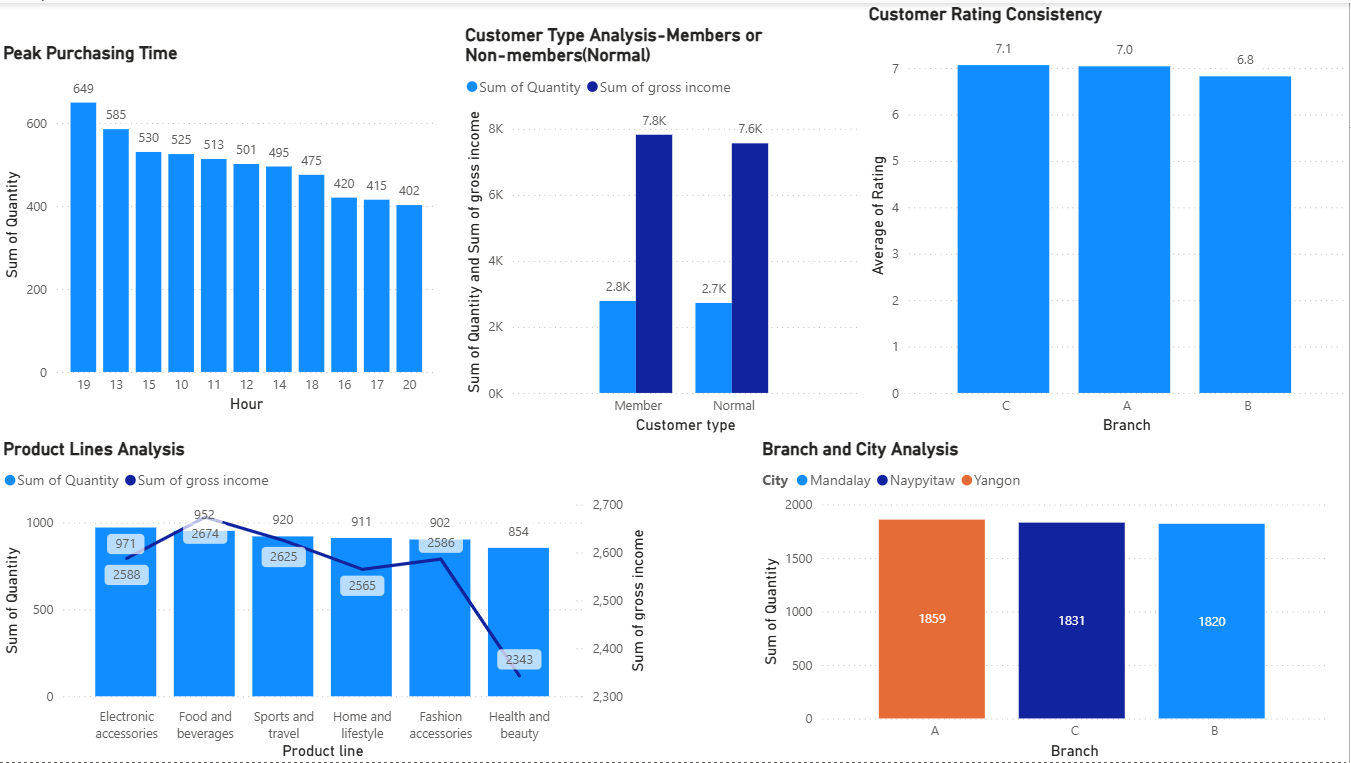

The dashboard page shown, as its layout file describes it:
{"tool":"powerbi","page":{"name":"Page 2","canvas":[1280,720],"ordinal":0},"visuals":[{"type":"clusteredColumnChart","title":"Customer Type Analysis-Members or Non-members(Normal)","fields":{"Category":["supermarket_sales - Sheet1.Customer type"],"Y":["Sum(supermarket_sales - Sheet1.Quantity)","Sum(supermarket_sales - Sheet1.gross income)"]},"box":[437.4,19.9,382,392],"z":0},{"type":"clusteredColumnChart","title":"Peak Purchasing Time","fields":{"Category":["supermarket_sales - Sheet1.Hour"],"Y":["Sum(supermarket_sales - Sheet1.Quantity)"]},"box":[0,36.9,418.9,355],"z":1000},{"type":"lineClusteredColumnComboChart","title":"Customer Rating Consistency","fields":{"Category":["supermarket_sales - Sheet1.Branch"],"Y":["Avg(supermarket_sales - Sheet1.Rating)"]},"box":[819.4,0,460.1,411.8],"z":2000},{"type":"lineClusteredColumnComboChart","title":"Product Lines Analysis","fields":{"Category":["supermarket_sales - Sheet1.Product line"],"Y":["Sum(supermarket_sales - Sheet1.Quantity)"],"Y2":["Sum(supermarket_sales - Sheet1.gross income)"]},"box":[0,411.8,617.8,308.2],"z":3000},{"type":"columnChart","title":"Branch and City Analysis","fields":{"Category":["supermarket_sales - Sheet1.Branch"],"Series":["supermarket_sales - Sheet1.City"],"Y":["Sum(supermarket_sales - Sheet1.Quantity)"]},"box":[718.6,411.8,543.9,308.2],"z":3001}]}

Visuals, with their boxes in screenshot pixels (x1, y1, x2, y2), scaled from the page's 1280x720 canvas onto the 1351x763 screenshot:
"Customer Type Analysis-Members or Non-members(Normal)" clusteredColumnChart: pyautogui.locateOnScreen(462, 21, 865, 436)
"Peak Purchasing Time" clusteredColumnChart: pyautogui.locateOnScreen(0, 39, 442, 415)
"Customer Rating Consistency" lineClusteredColumnComboChart: pyautogui.locateOnScreen(865, 0, 1350, 436)
"Product Lines Analysis" lineClusteredColumnComboChart: pyautogui.locateOnScreen(0, 436, 652, 762)
"Branch and City Analysis" columnChart: pyautogui.locateOnScreen(758, 436, 1333, 762)
